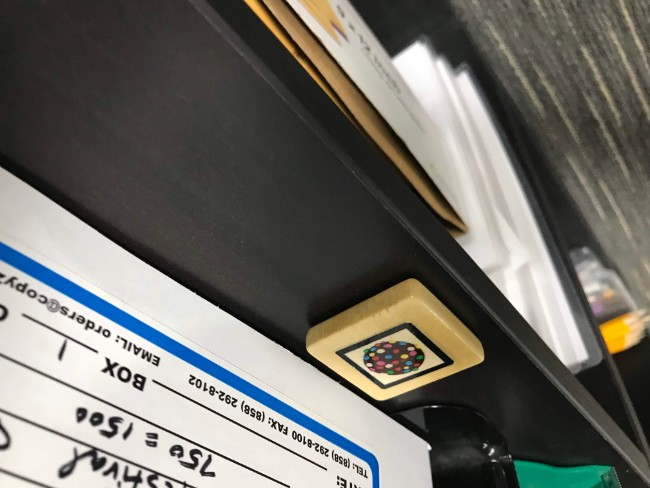cookie: (334, 315, 464, 395)
